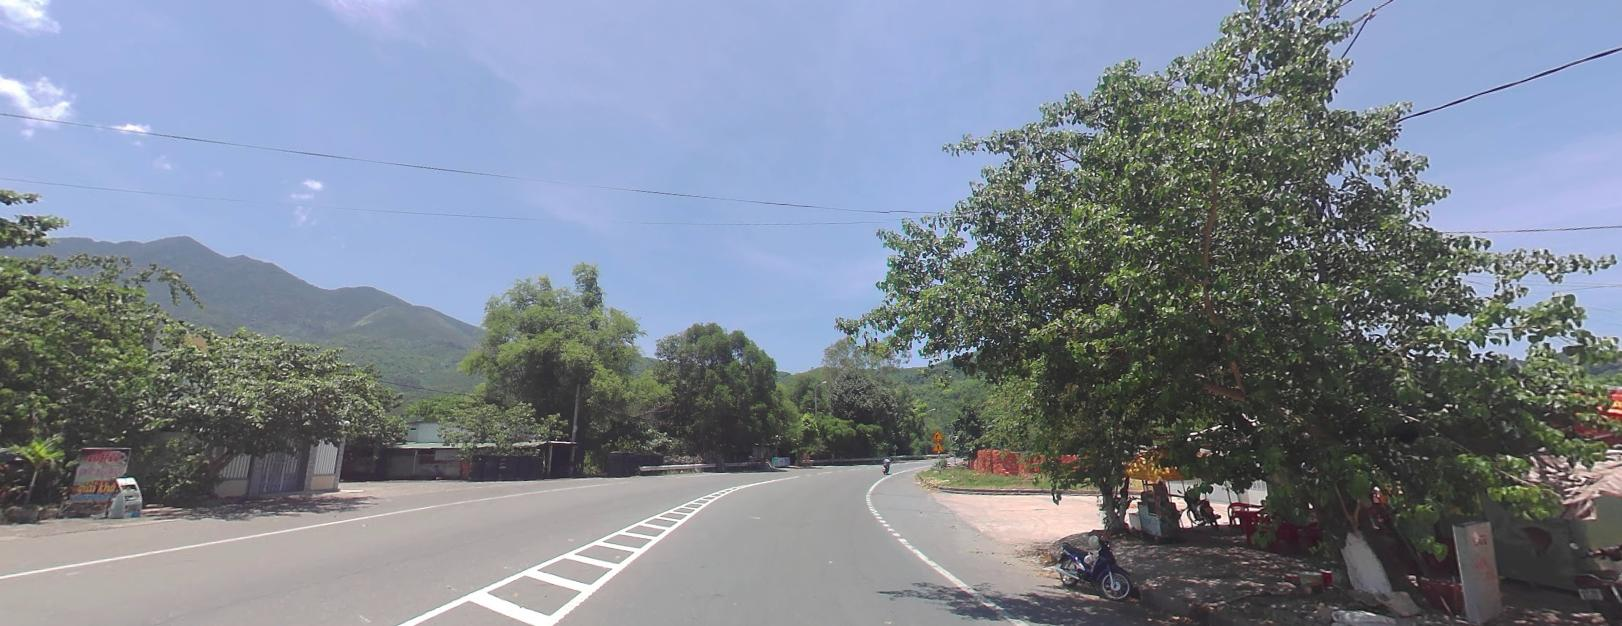Nguy hiem: (931, 440, 943, 450), (931, 429, 942, 438)
